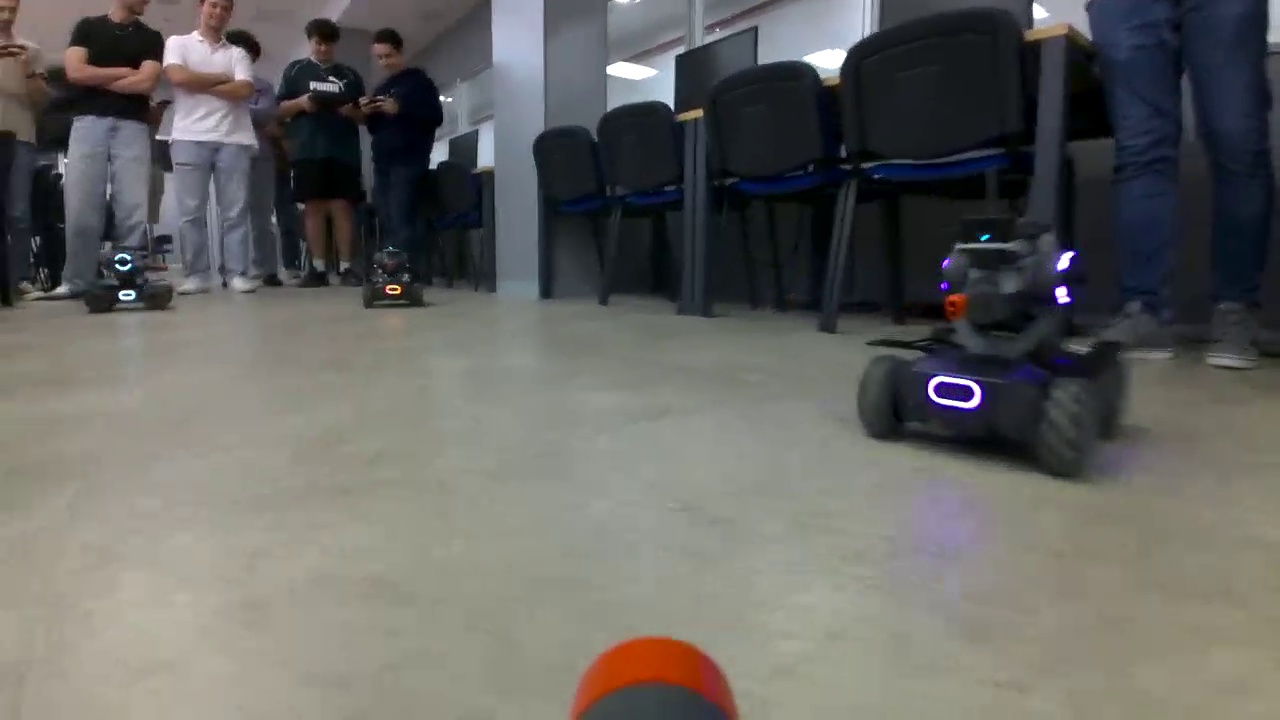robot: (855, 230, 1125, 475), (82, 245, 178, 312), (358, 245, 432, 307)
